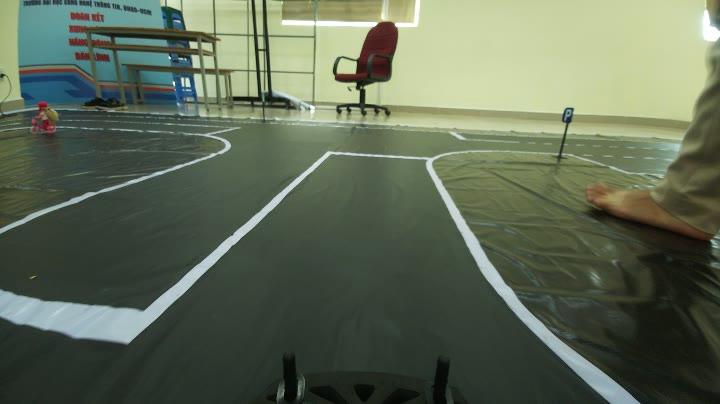parking: (558, 100, 576, 127)
